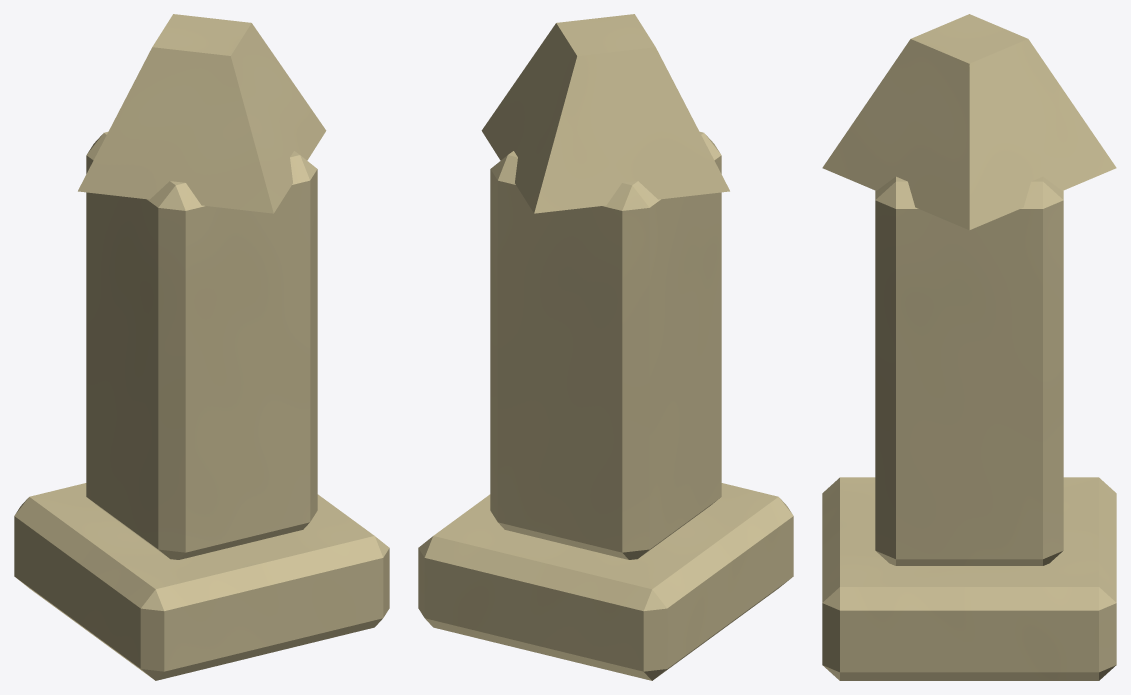
Rendered from WarrensC_WVC007_BoneBridgePost_Mars_SM.fbx.
3 views of the same model, side by side, from view 1: azimuth 30°, elevation 25°; view 2: azimuth 150°, elevation 25°; view 3: azimuth 270°, elevation 25° (orthographic). The views are drawn at different scales.
Parts seen in each view (by area): view 1: WarrensC_WVC007_BoneBridgePost_Mars_SM.001; view 2: WarrensC_WVC007_BoneBridgePost_Mars_SM.001; view 3: WarrensC_WVC007_BoneBridgePost_Mars_SM.001.
Part boxes in pixels (x1,y1,x2,y2): WarrensC_WVC007_BoneBridgePost_Mars_SM.001: (14,14,389,680); WarrensC_WVC007_BoneBridgePost_Mars_SM.001: (418,14,793,680); WarrensC_WVC007_BoneBridgePost_Mars_SM.001: (822,14,1116,680).
Size of the model in its own units: 50 by 50 by 110.
